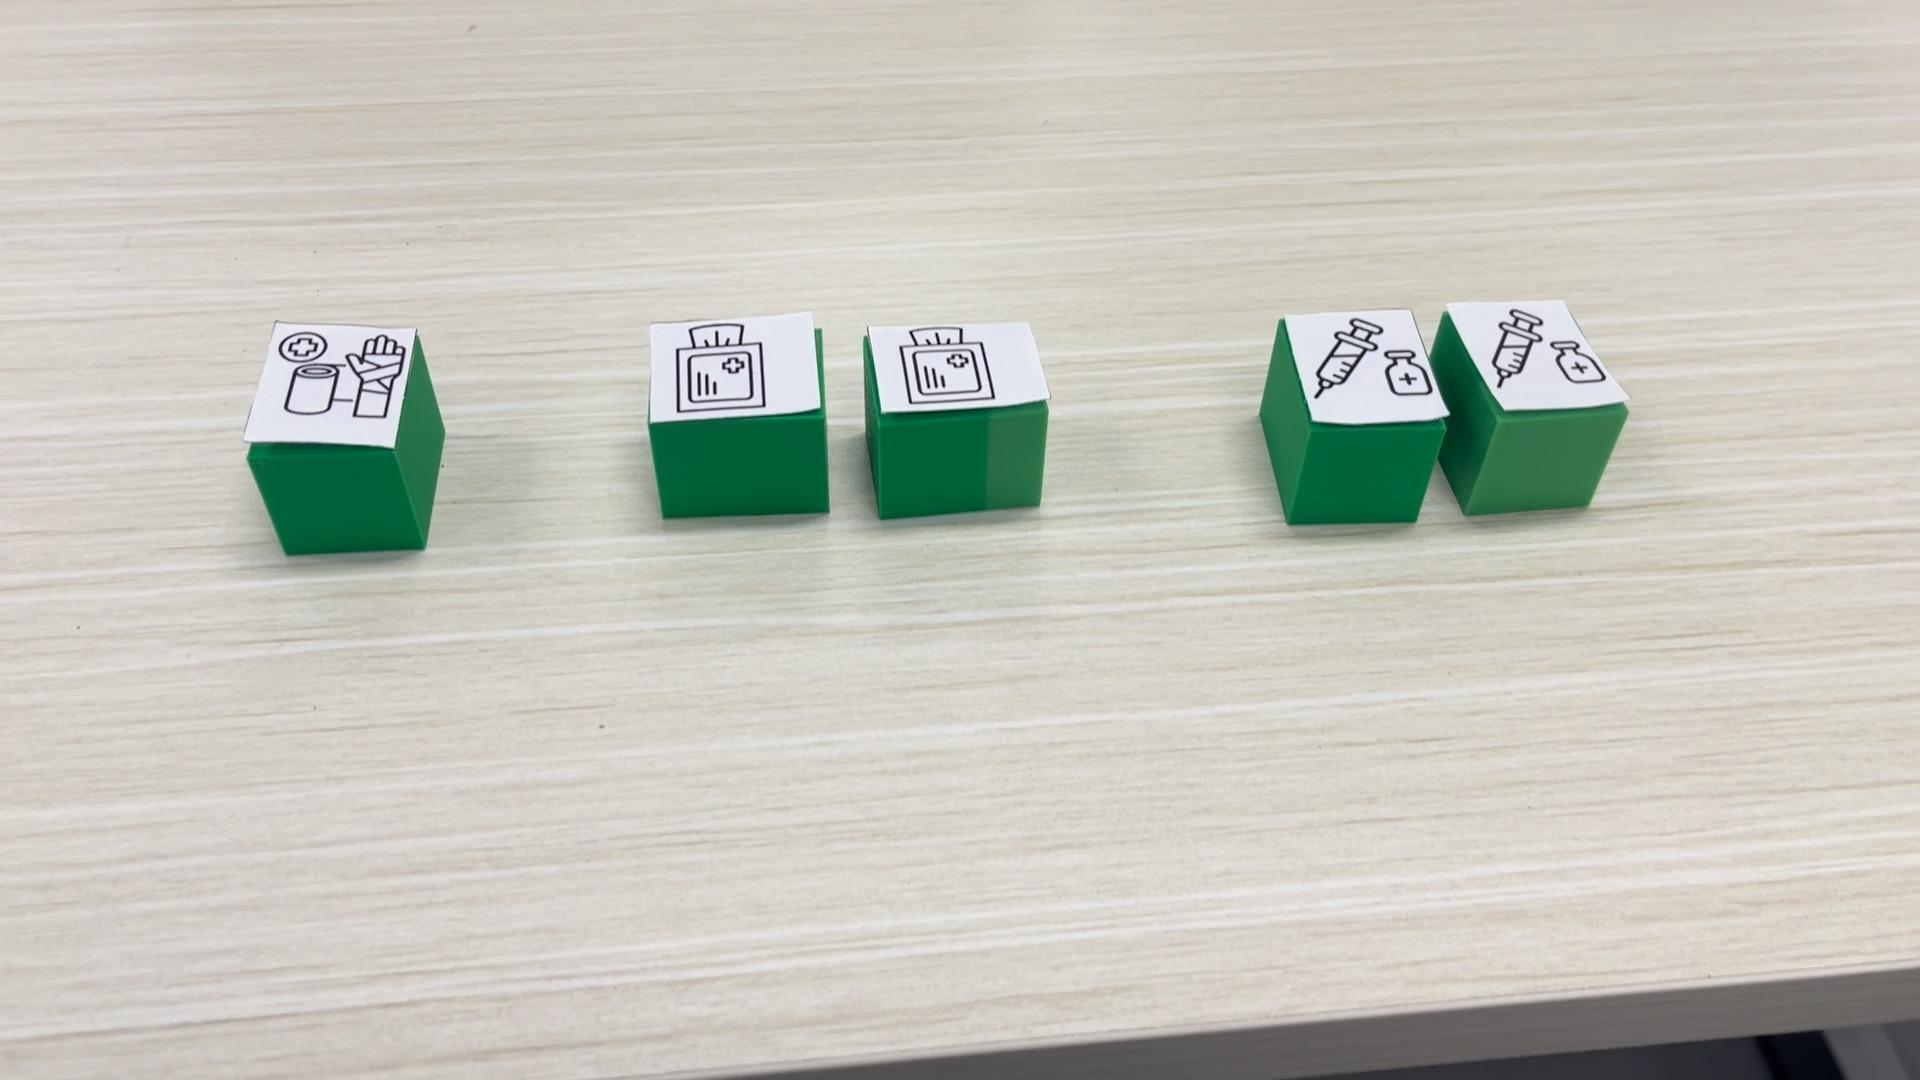Bandages: (243, 320, 443, 556)
Gauze: (862, 316, 1052, 520), (647, 310, 825, 520)
antiseptic cream: (1433, 297, 1630, 516), (1258, 307, 1449, 526)
